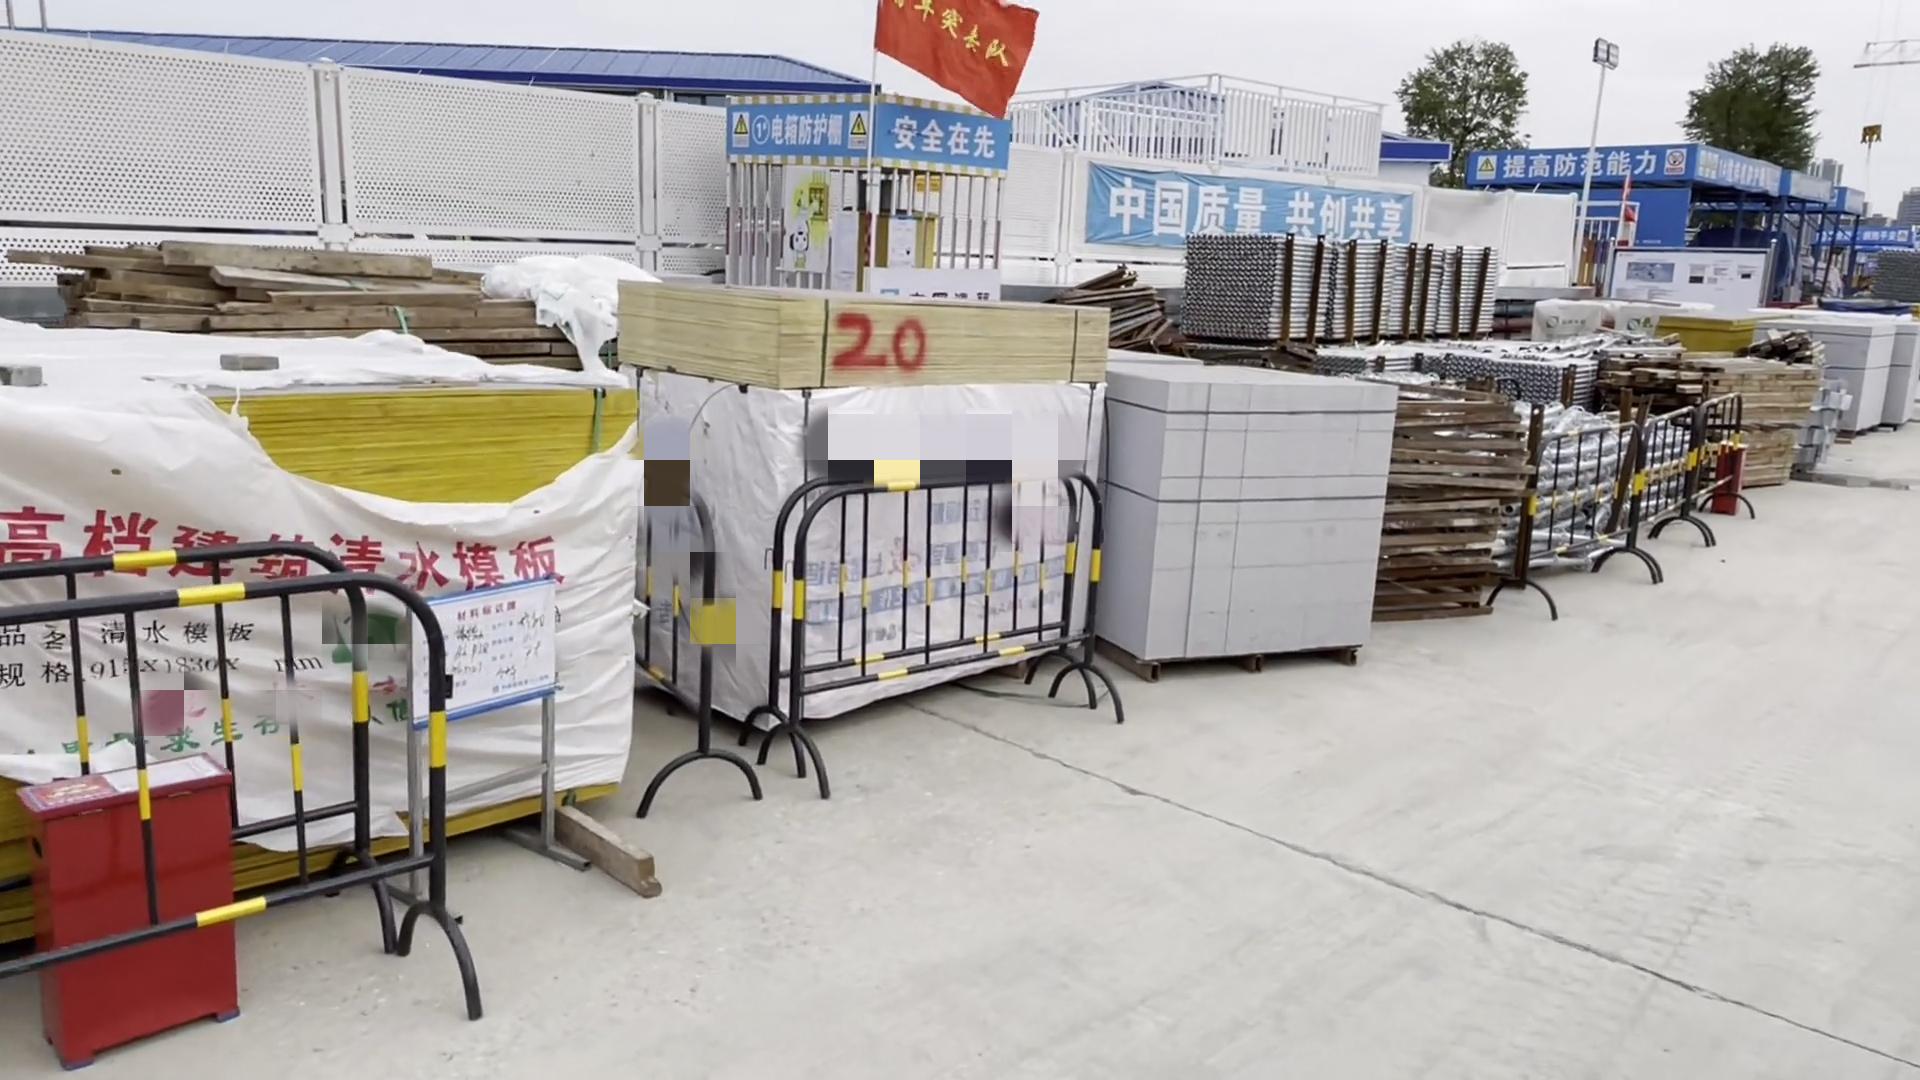brick: (1100, 357, 1408, 670), (1767, 316, 1900, 419)
fence: (1, 556, 500, 1058), (793, 492, 1142, 798), (612, 463, 778, 839), (1503, 429, 1644, 624), (1695, 394, 1758, 550), (1647, 407, 1700, 593)
scaffold: (1534, 415, 1676, 549), (1455, 338, 1597, 407)
